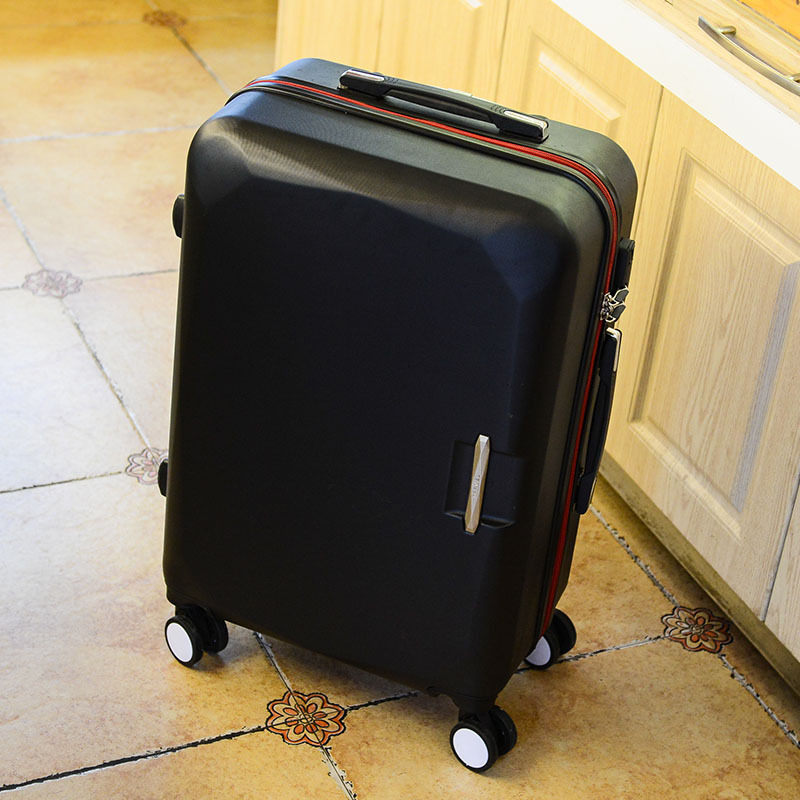box: (161, 57, 637, 709)
handle: (337, 66, 554, 144), (571, 324, 623, 515)
wheel: (449, 707, 518, 773), (165, 611, 229, 670), (521, 608, 577, 670)
